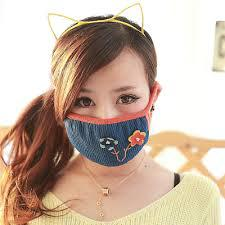OK: (68, 81, 155, 168)
